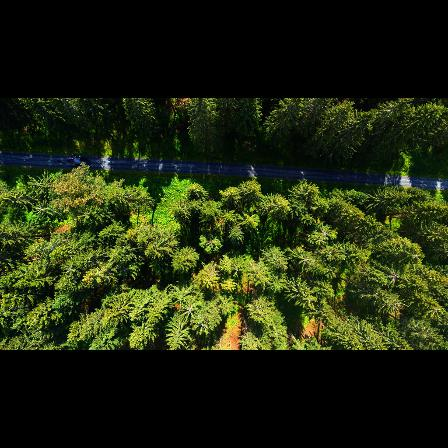Sick: (172, 299, 207, 321), (380, 263, 407, 289)
